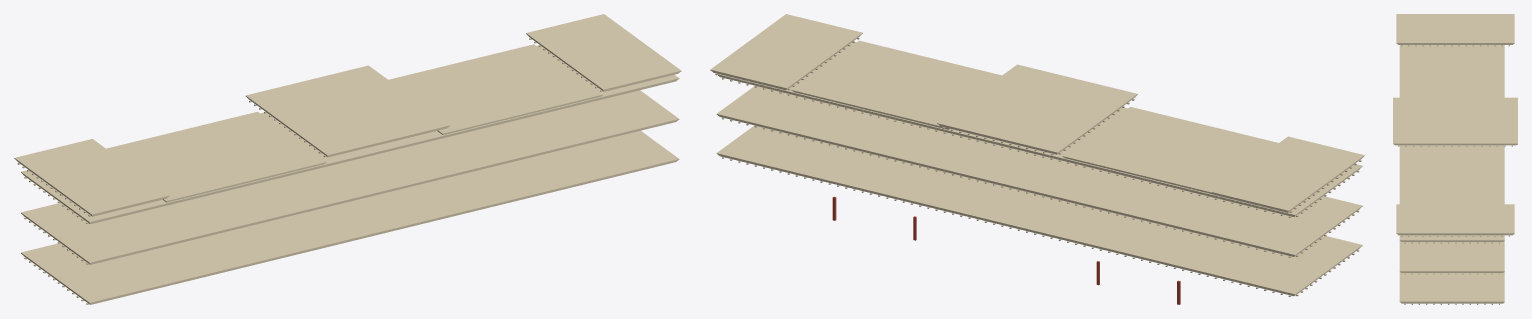
The model's file is KOL_T1_WRITERS__02_Cornices.fbx.
3 renders of one model, left to right at view 1: azimuth 30°, elevation 25°; view 2: azimuth 150°, elevation 25°; view 3: azimuth 270°, elevation 25°, orthographic. The views are drawn at different scales.
Visible parts, largest first — view 1: KOL_T1_WRITERS__02_Cornices__KOL_T1_HeritageCream, KOL_T1_WRITERS__02_Cornices__KOL_T1_HeritageCream.001; view 2: KOL_T1_WRITERS__02_Cornices__KOL_T1_HeritageCream, KOL_T1_WRITERS__02_Cornices__KOL_T1_HeritageCream.001; view 3: KOL_T1_WRITERS__02_Cornices__KOL_T1_HeritageCream, KOL_T1_WRITERS__02_Cornices__KOL_T1_HeritageCream.001.
Part boxes in pixels (x1,y1,x2,y2): KOL_T1_WRITERS__02_Cornices__KOL_T1_HeritageCream: (14, 14, 681, 304); KOL_T1_WRITERS__02_Cornices__KOL_T1_HeritageCream.001: (388, 44, 602, 134); KOL_T1_WRITERS__02_Cornices__KOL_T1_HeritageCream: (710, 14, 1364, 296); KOL_T1_WRITERS__02_Cornices__KOL_T1_HeritageCream.001: (791, 40, 1093, 167); KOL_T1_WRITERS__02_Cornices__KOL_T1_HeritageCream: (1393, 14, 1517, 304); KOL_T1_WRITERS__02_Cornices__KOL_T1_HeritageCream.001: (1399, 150, 1504, 204).
Bounding box in the file's own units: 316 × 68.43 × 75.9.
